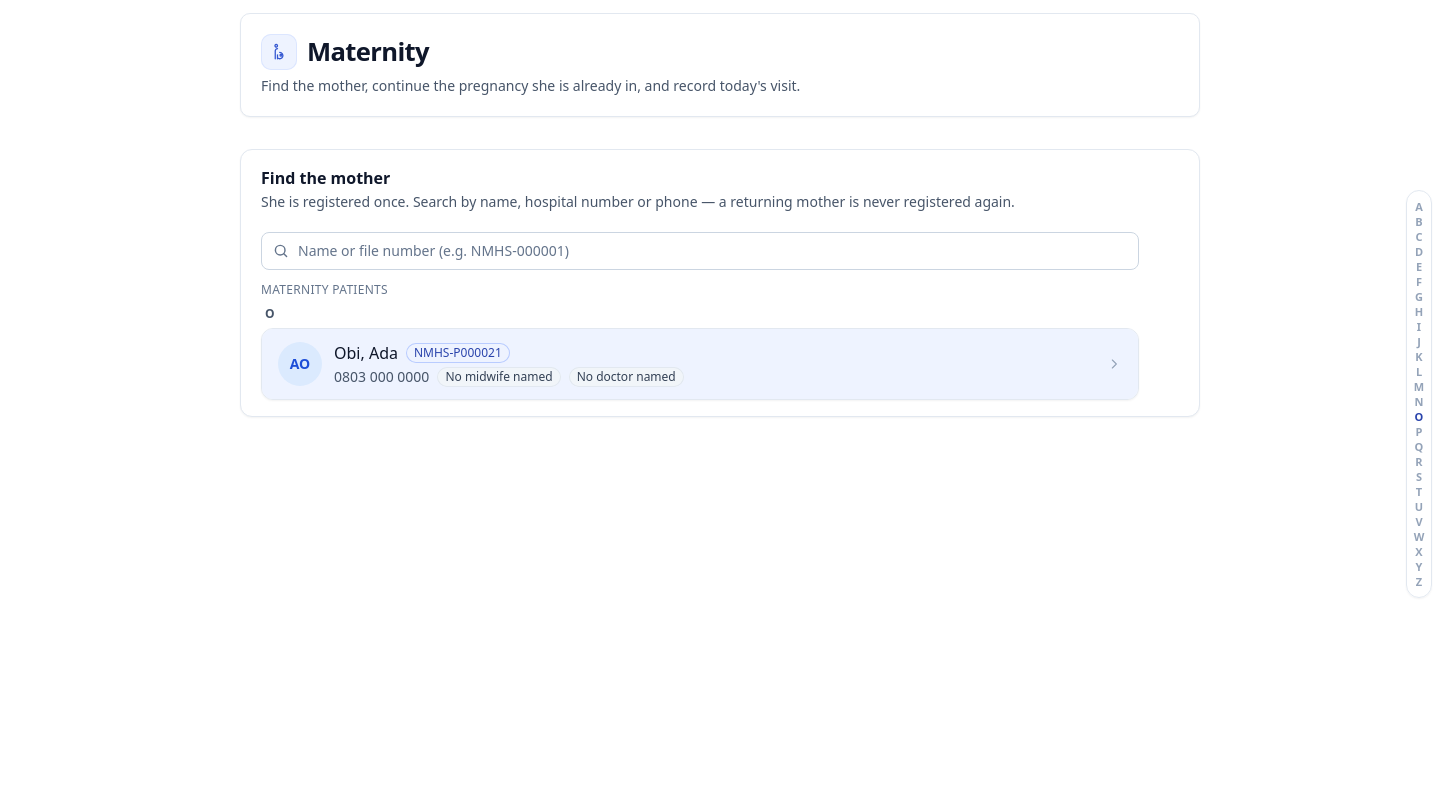
Scenario: twins in the workspace › shows every baby, not only the first
Step 1. Click the dropdown named "Search maternity patients" → (700, 251), box [261, 232, 1139, 270]
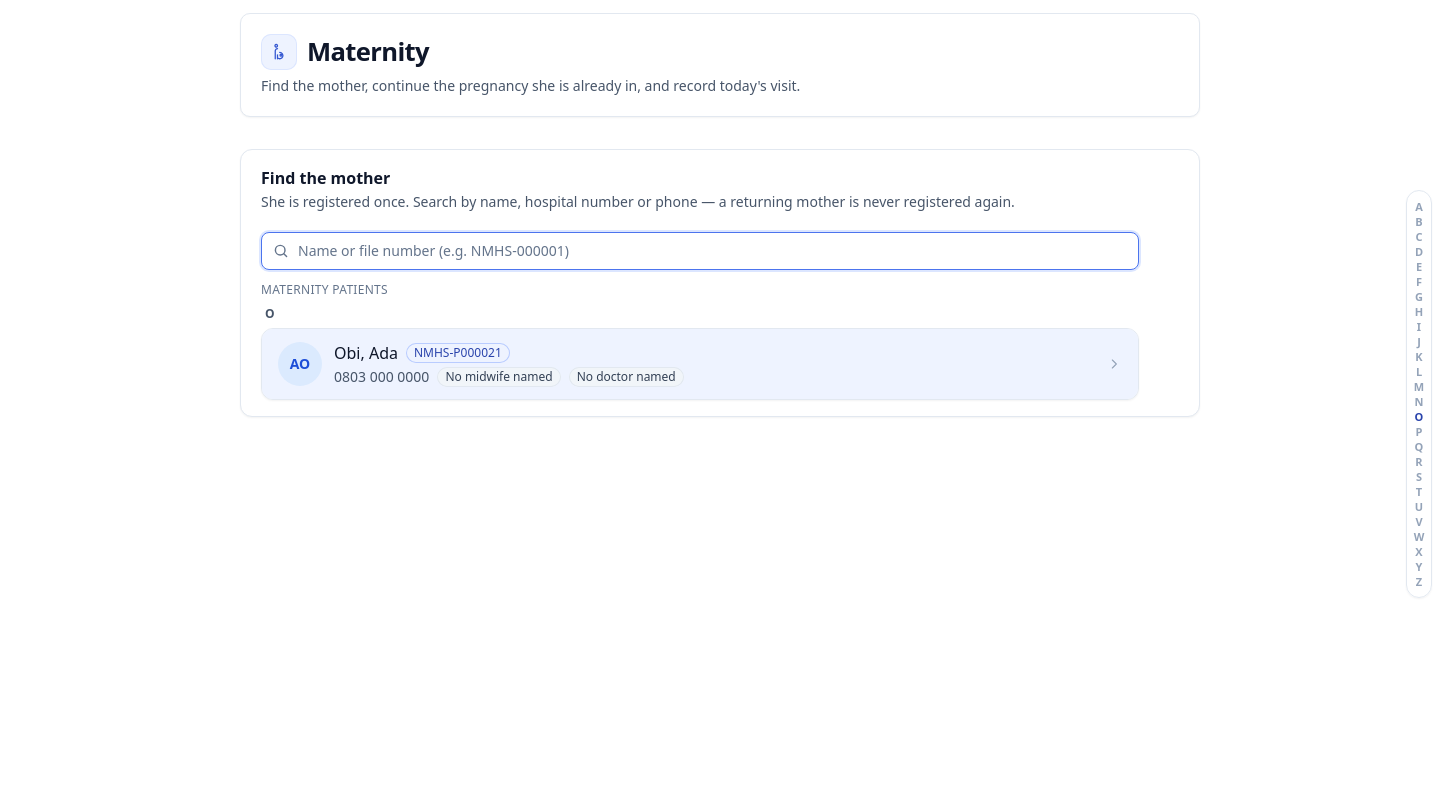
Step 2. Click the option "Obi, Ada" → (300, 364), box [262, 329, 1138, 399]
(page scrolled)
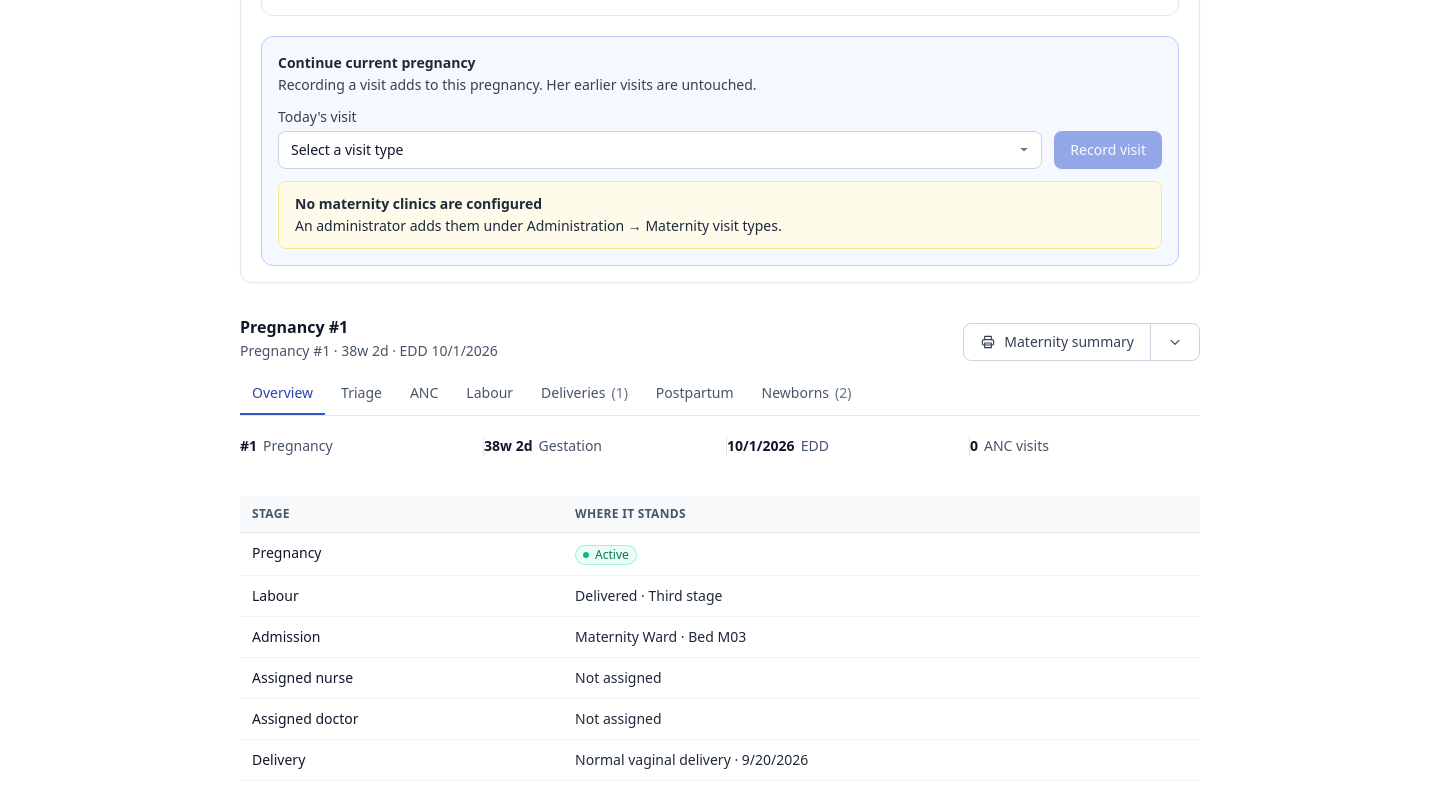
Step 3. Click the button "Newborns(2)" → (807, 394), box [750, 373, 864, 415]
(page scrolled)
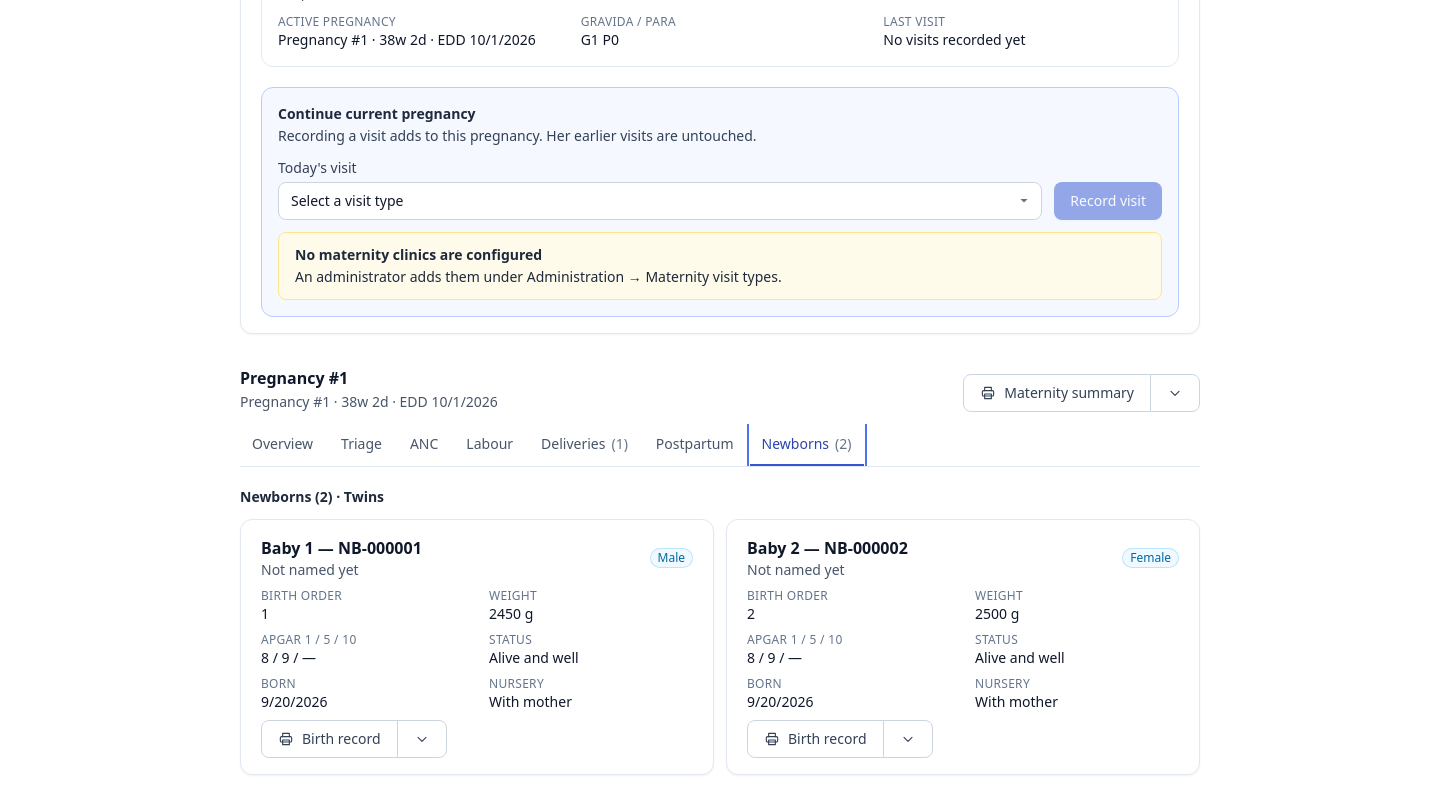
Expected: the text "Baby 1 — NB-000001" is shown, [261, 536, 422, 560]
Expected: the text "Baby 2 — NB-000002" is shown, [747, 536, 908, 560]
